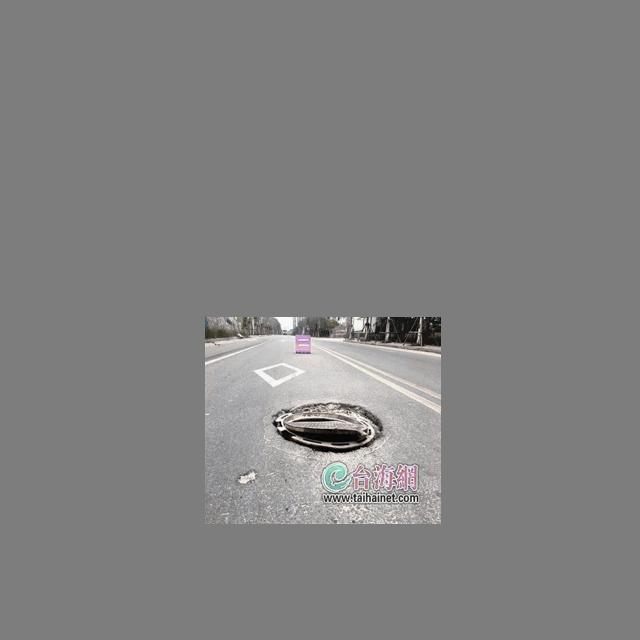circle: (248, 396, 399, 464)
